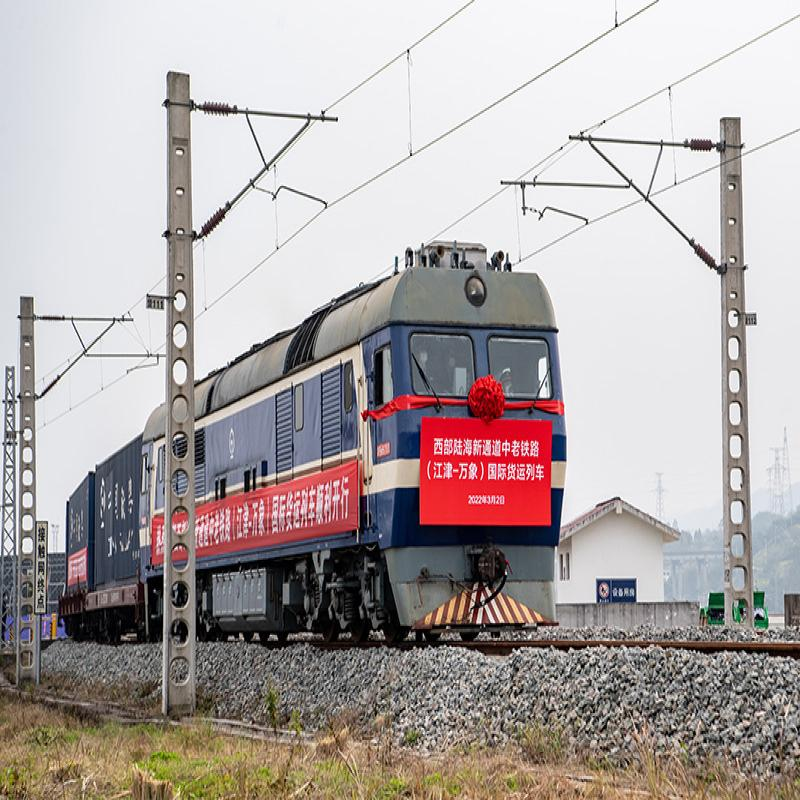train: (137, 277, 567, 633)
